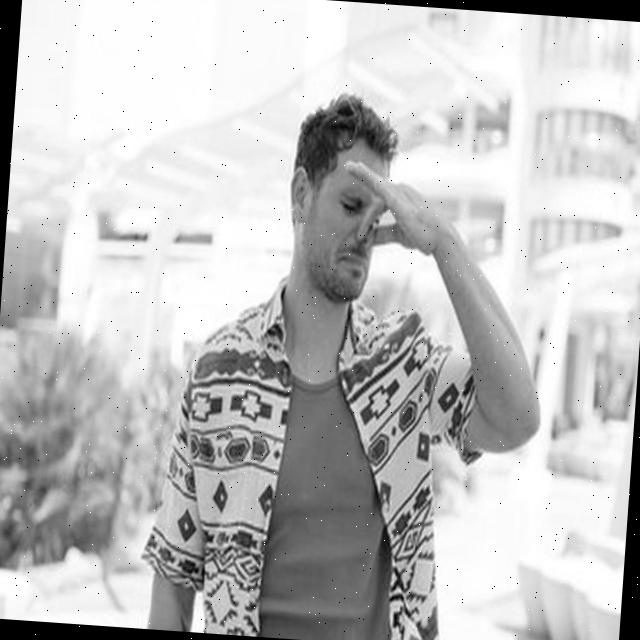Disgust: (302, 138, 392, 302)
